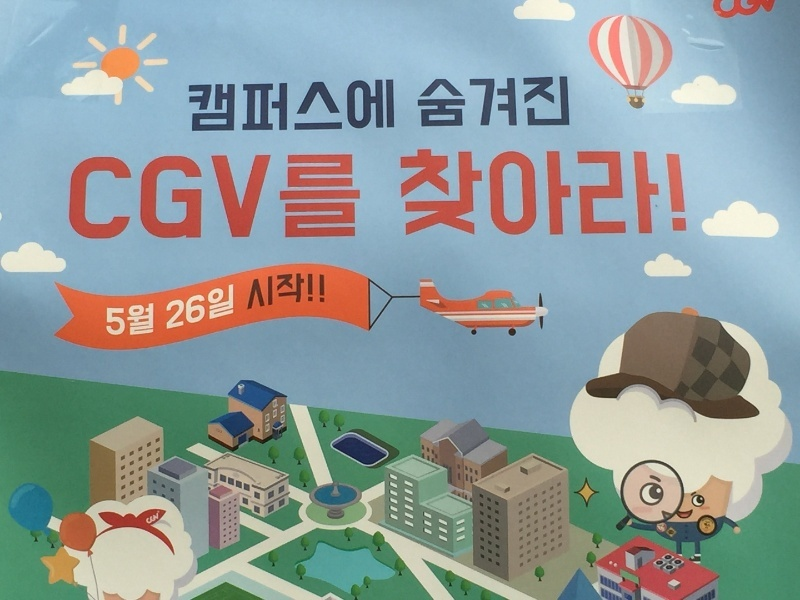text: (257, 153, 273, 242), (401, 147, 416, 239), (417, 147, 432, 239), (433, 147, 448, 239), (449, 147, 464, 239), (465, 147, 480, 239), (481, 147, 496, 239), (497, 147, 512, 239), (513, 147, 528, 239), (529, 147, 544, 239), (545, 147, 560, 239), (561, 147, 576, 239), (577, 147, 592, 239), (593, 147, 608, 239), (609, 147, 624, 239), (625, 147, 640, 239), (641, 147, 656, 239), (657, 147, 672, 239), (673, 147, 688, 239), (81, 153, 96, 242), (97, 153, 112, 242), (113, 153, 128, 242), (129, 153, 144, 242), (145, 153, 160, 242), (161, 153, 176, 242), (177, 153, 192, 242), (193, 153, 208, 242), (209, 153, 224, 242), (225, 153, 240, 242), (241, 153, 256, 242), (289, 152, 304, 241), (305, 152, 320, 241), (321, 152, 336, 241), (337, 152, 352, 241), (69, 153, 80, 242), (353, 152, 363, 241), (193, 78, 208, 134), (209, 78, 224, 134), (225, 78, 240, 134), (241, 78, 256, 134), (257, 78, 272, 134), (273, 78, 288, 134), (289, 78, 304, 134), (305, 78, 320, 134), (321, 78, 336, 134), (337, 78, 352, 134), (353, 78, 368, 134), (369, 78, 384, 134), (433, 74, 448, 129), (449, 74, 464, 129), (465, 74, 480, 129), (481, 74, 496, 129), (497, 74, 512, 129), (513, 74, 528, 129), (529, 74, 544, 129), (545, 74, 560, 129), (418, 74, 432, 129), (177, 282, 192, 333), (193, 282, 208, 333), (209, 282, 224, 333), (385, 78, 397, 134), (257, 270, 272, 312), (273, 270, 288, 312), (289, 270, 304, 312), (305, 270, 320, 312), (113, 302, 128, 340), (129, 302, 144, 340), (561, 74, 571, 129), (166, 282, 176, 333), (225, 282, 235, 333), (145, 302, 155, 340), (104, 302, 112, 340), (187, 78, 192, 134), (321, 270, 327, 312), (398, 147, 400, 239), (286, 152, 288, 241), (253, 270, 256, 312)
